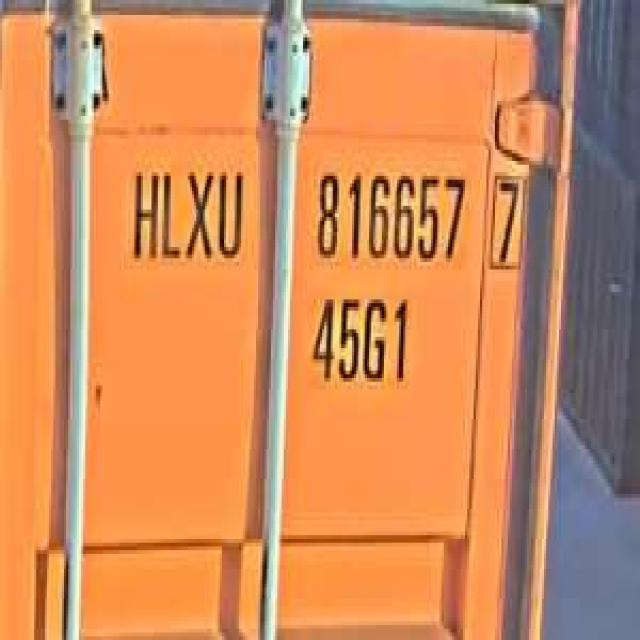dv: (482, 161, 531, 281)
owner: (126, 154, 247, 274)
serial: (308, 157, 470, 273)
size: (307, 284, 414, 393)
